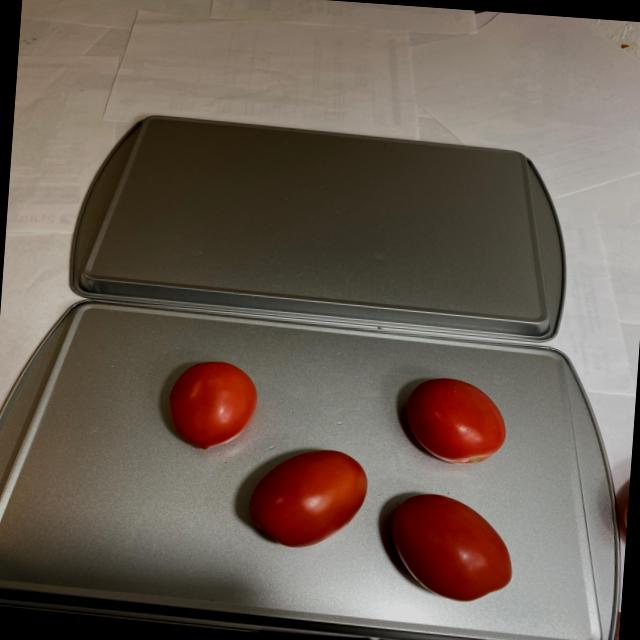tomato: (155, 356, 531, 605)
